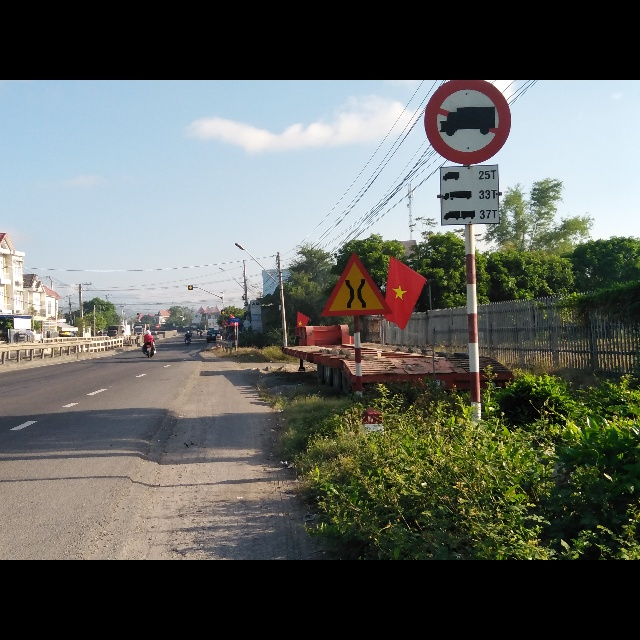Cấm xe tải: (421, 80, 512, 166)
Cầu hẹp: (322, 248, 394, 316)
